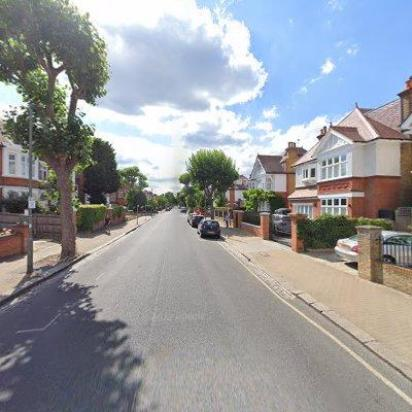stationary-car-offstreet: (332, 227, 412, 268), (272, 207, 294, 236)
stationary-car-onstreet: (197, 220, 221, 238), (190, 214, 206, 228), (186, 212, 198, 224), (180, 206, 186, 214), (166, 206, 170, 212)
